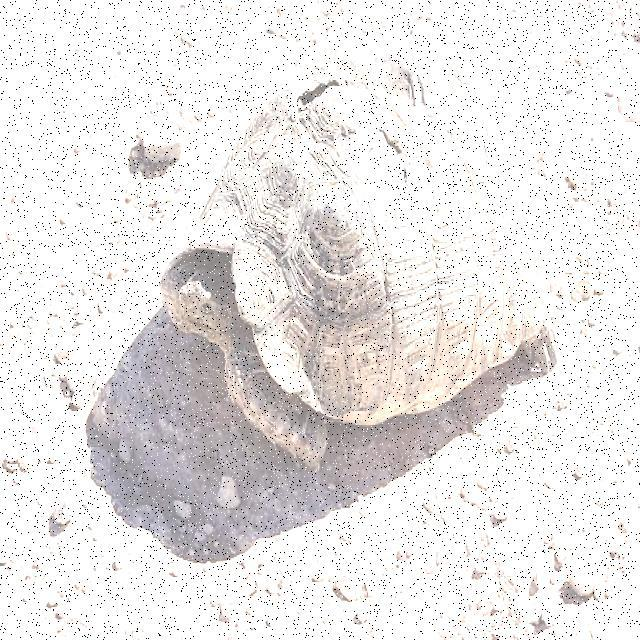tortoise: (160, 82, 574, 464)
